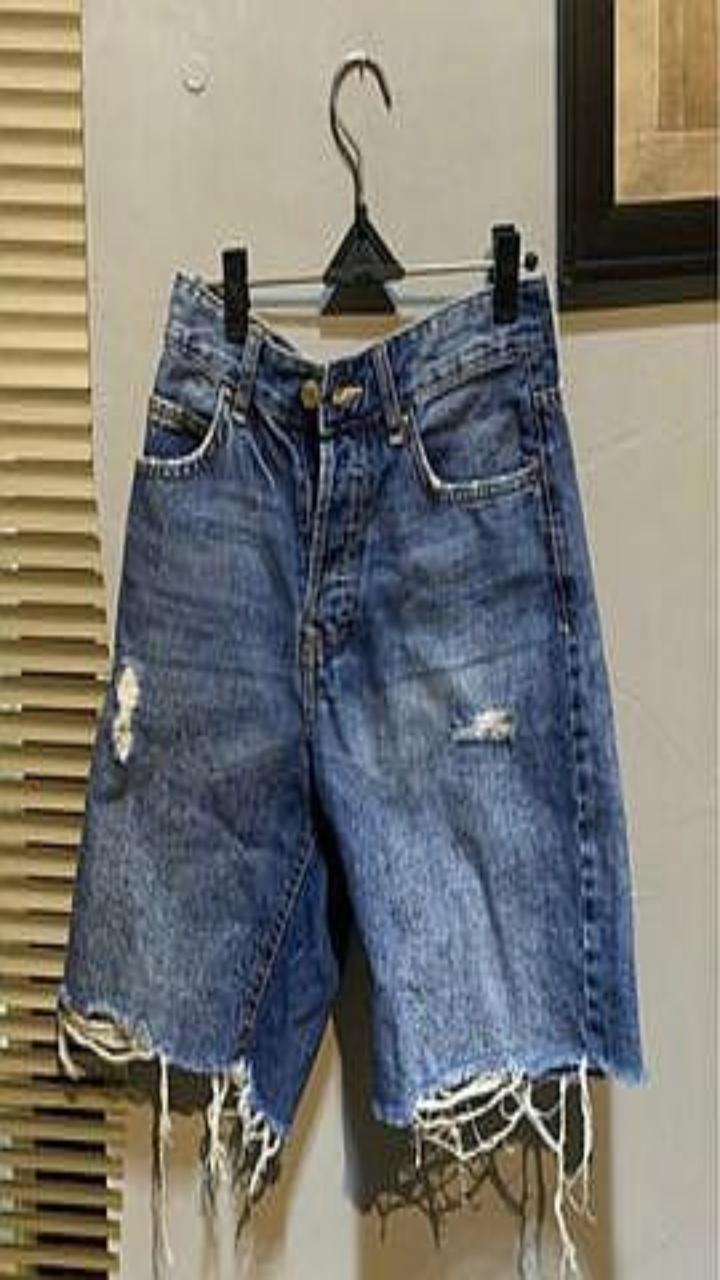Shorts: (58, 271, 646, 1261)
